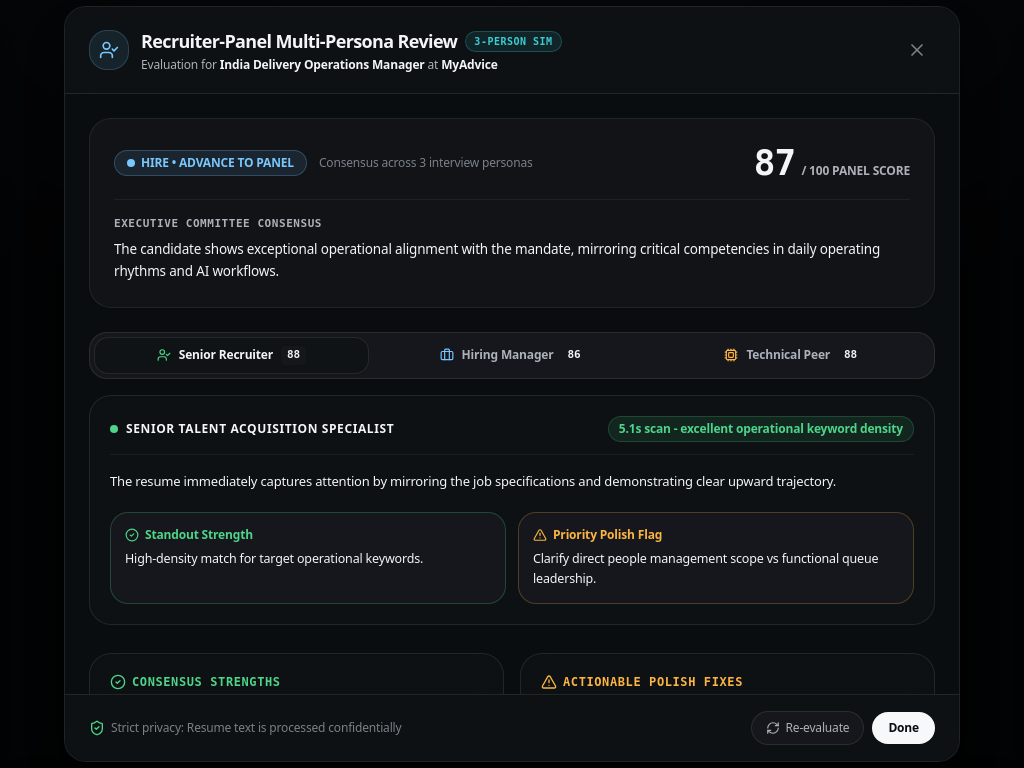
Test: RecruiterReviewModal UX & Readability › renders completed review with clear score hierarchy, segmented tabs, and readable feedback
Expected: the text "87" is shown, 754,144 -> 795,184
Expected: the text "/ 100 PANEL SCORE" is shown, 801,164 -> 910,180
# Switch to Hiring Manager
Click the button "Hiring Manager 86" at (513, 355), box 377,338 -> 649,373
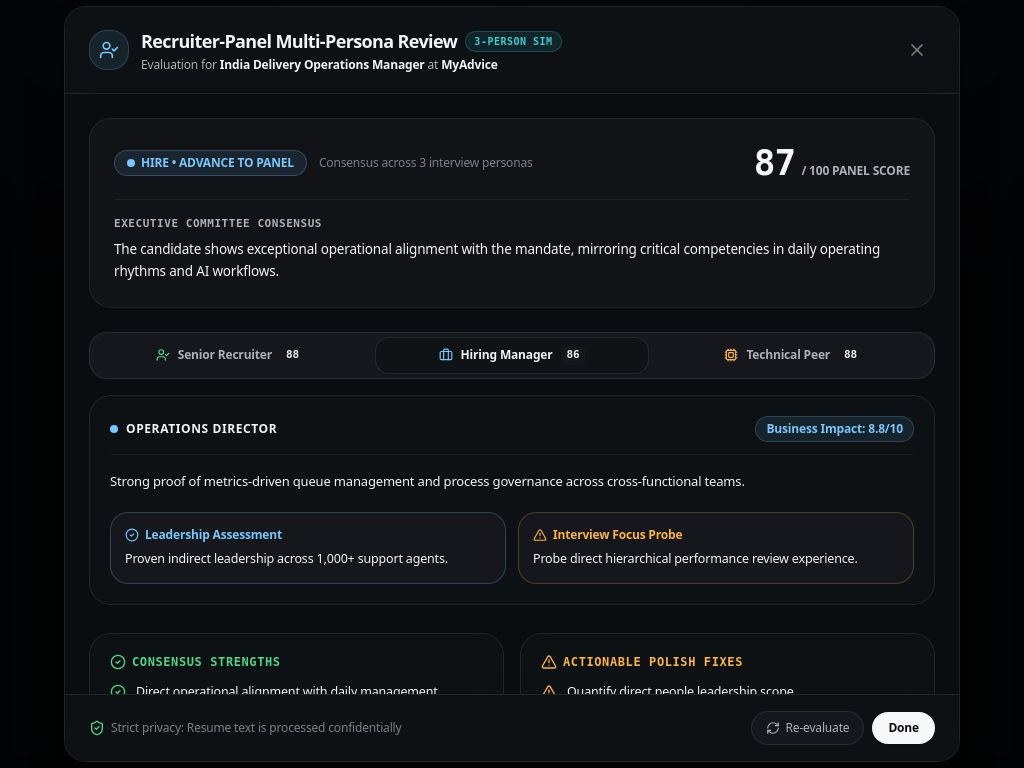
Expected: the text "Leadership Assessment" is shown, 145,527 -> 282,543
Expected: the text "Proven indirect leadership across 1,000+ support agents." is shown, 125,549 -> 491,569
# Switch to Technical Peer
Click the button "Technical Peer 88" at (794, 355), box 657,338 -> 930,373
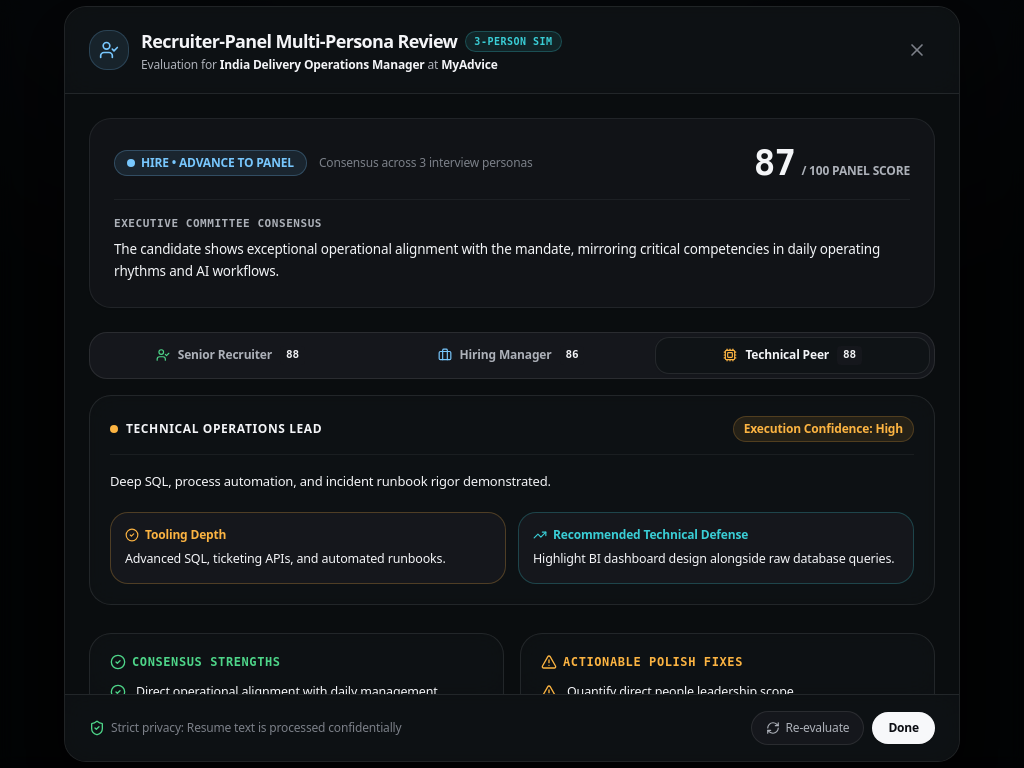
Expected: the text "Quantify direct people leadership scope." is shown, 567,683 -> 797,694
Expected: the text "Tooling Depth" is shown, 145,527 -> 226,543
Expected: the text "Advanced SQL, ticketing APIs, and automated runbooks." is shown, 125,549 -> 491,569
